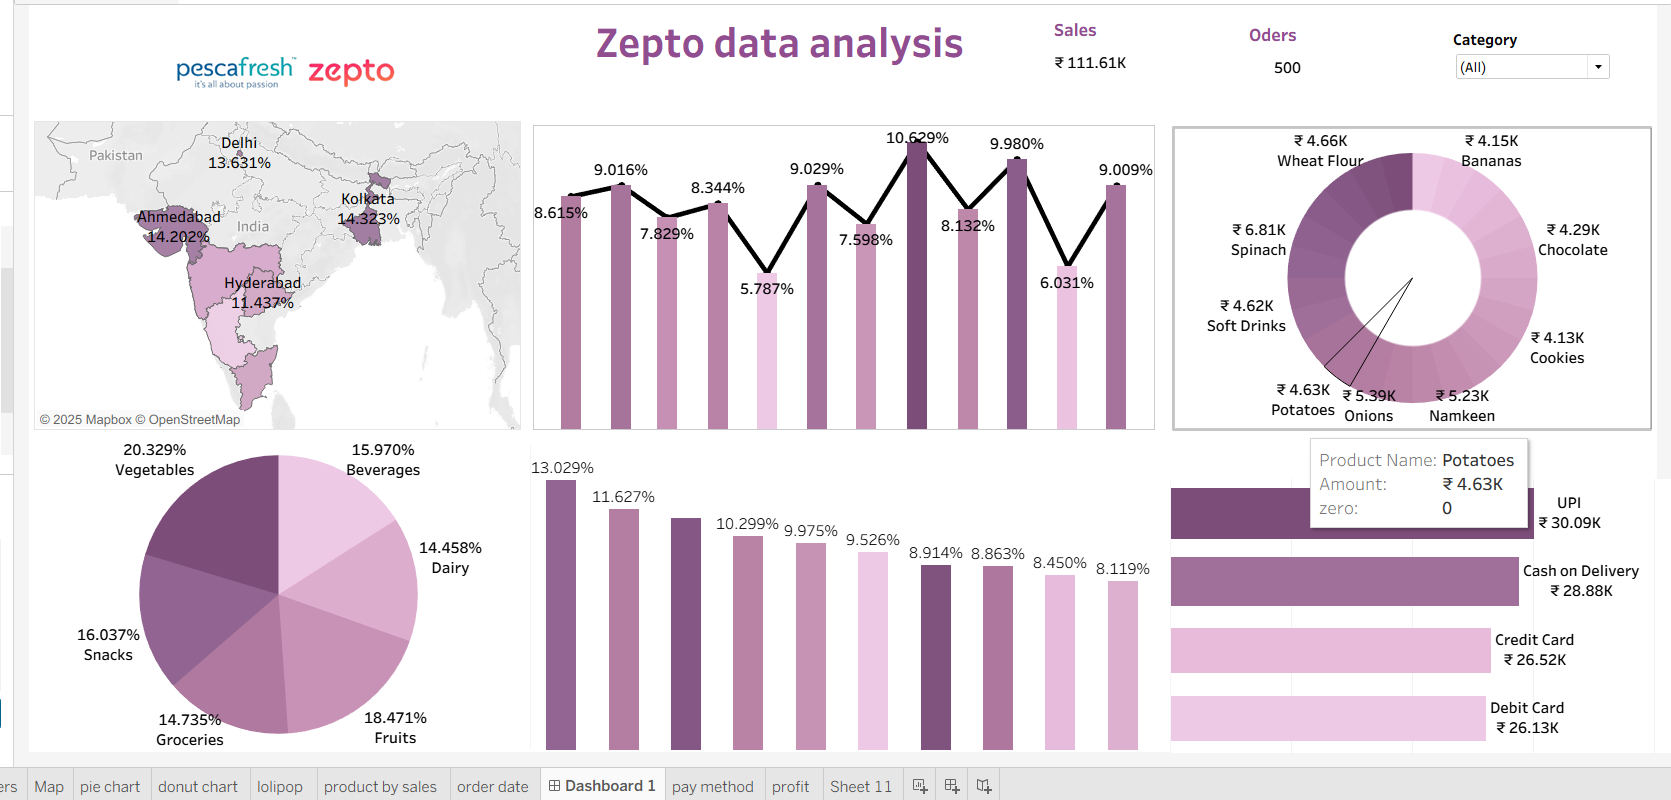

This screenshot's page, from the dashboard's own definition file:
{"tool":"tableau","page":{"name":"Dashboard 1","canvas":[1000,1000],"units":"permille","ordinal":0},"visuals":[{"type":"text","box":[345.8,12.1,231,72.3]},{"type":"worksheet","title":"Sales","mark":"Automatic","box":[627.1,12.1,112.4,120.5]},{"type":"worksheet","title":"Oders","mark":"Automatic","box":[746.9,18.7,68.2,109.8]},{"type":"filter","title":"pie chart","param":"[federated.039oafi0abjlkg1e9juzh1wtp9o8].[none:Category:nk]","box":[874.7,32.1,98.3,85.7]},{"type":"worksheet","title":"Map","mark":"Automatic","box":[3.1,155.3,299.1,413.7]},{"type":"worksheet","title":"order date","mark":"Automatic","rows":["Amount","Amount"],"cols":["Order Date"],"box":[309.6,160.6,382.1,408.3]},{"type":"worksheet","title":"donut chart","mark":"Circle","rows":["Calculation_1376694152061485058","Calculation_1376694152061485058"],"box":[703.3,164.7,293.6,402.9]},{"type":"worksheet","title":"pie chart","mark":"Pie","box":[5.5,578.3,295.4,421.7]},{"type":"worksheet","title":"product by sales","mark":"Automatic","rows":["Amount"],"cols":["Product Name"],"box":[307.7,589,383.3,408.3]}]}

Visuals, with their boxes on the dashboard's canvas, which has no fixed pixel size, in thousandths of its width and height (x1, y1, x2, y2). These are canvas units, not pixel positions in the 1671x800 screenshot, which may show the page scaled, cropped or inside an application window:
text: (left=346, top=12, right=577, bottom=84)
"Sales" worksheet: (left=627, top=12, right=740, bottom=133)
"Oders" worksheet: (left=747, top=19, right=815, bottom=128)
"pie chart" filter: (left=875, top=32, right=973, bottom=118)
"Map" worksheet: (left=3, top=155, right=302, bottom=569)
"order date" worksheet: (left=310, top=161, right=692, bottom=569)
"donut chart" worksheet (Circle marks): (left=703, top=165, right=997, bottom=568)
"pie chart" worksheet (Pie marks): (left=6, top=578, right=301, bottom=1000)
"product by sales" worksheet: (left=308, top=589, right=691, bottom=997)
